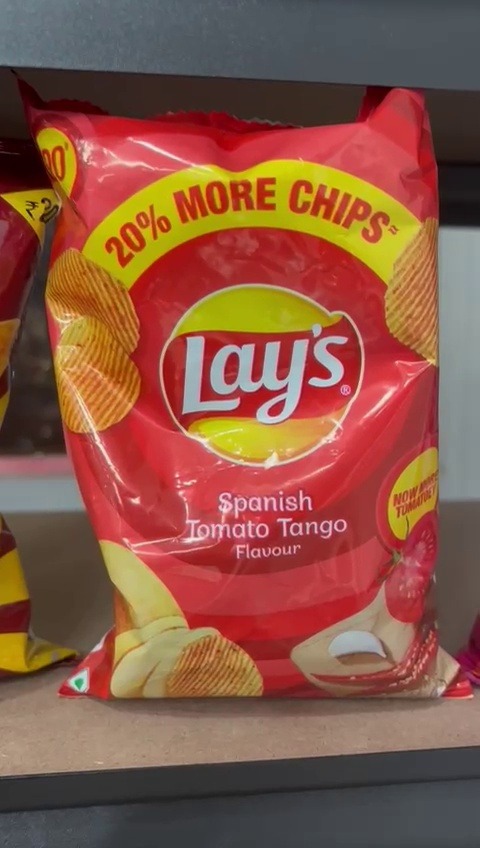Lays: (39, 109, 438, 708)
